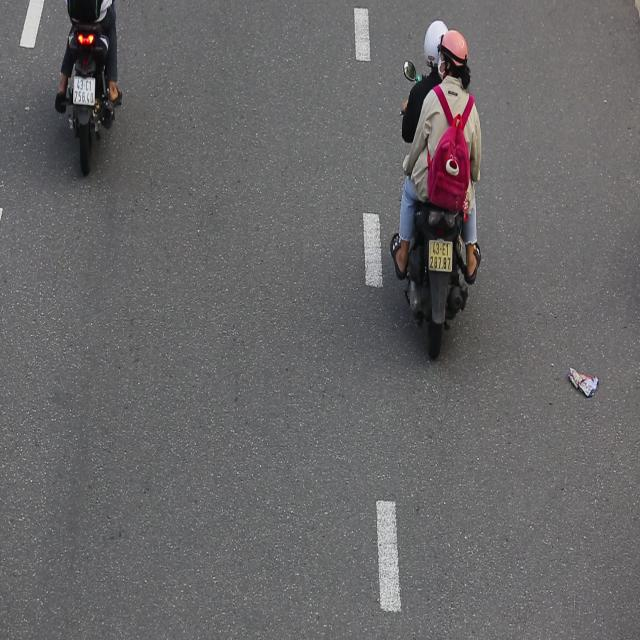motorbike: (392, 20, 485, 360)
